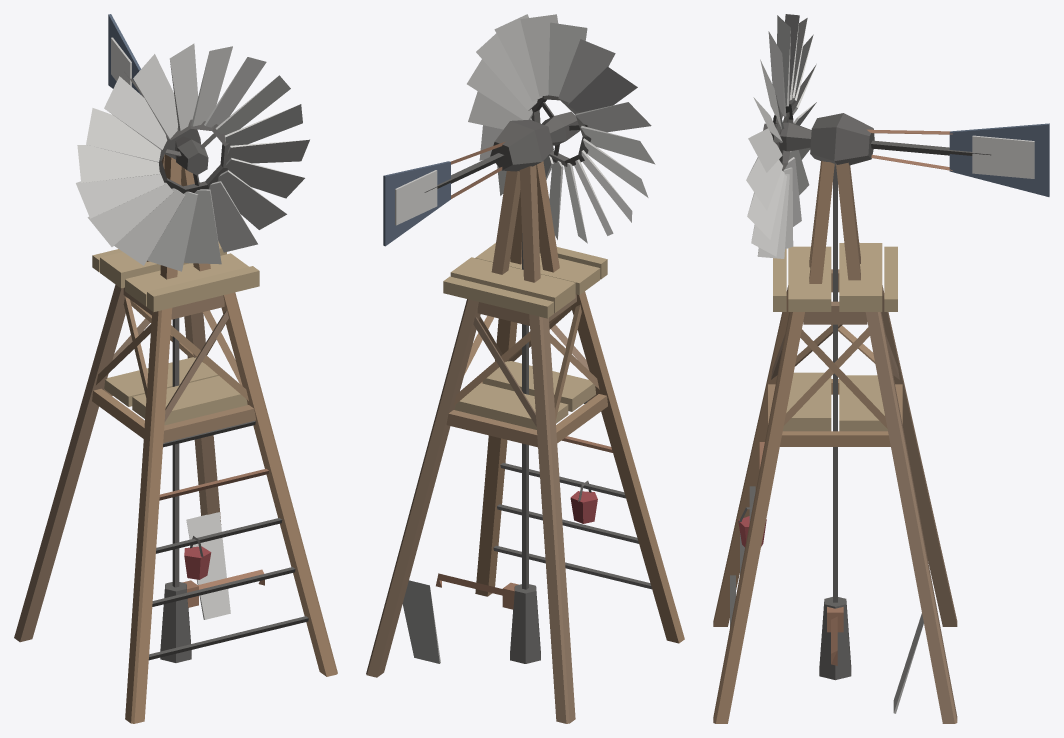
File: stall_2.glb
The picture shows the model from 3 angles, left to right: view 1: azimuth 30°, elevation 25°; view 2: azimuth 150°, elevation 25°; view 3: azimuth 270°, elevation 25°; orthographic projection. The views are drawn at different scales.
Parts seen in each view (by area): view 1: stall_2; view 2: stall_2; view 3: stall_2.
Part boxes in pixels (bbox=[...]): stall_2: bbox=[14, 14, 337, 723]; stall_2: bbox=[366, 14, 684, 723]; stall_2: bbox=[713, 14, 1049, 723].
Size of the model in its own units: 2.88 by 7.99 by 3.79.
